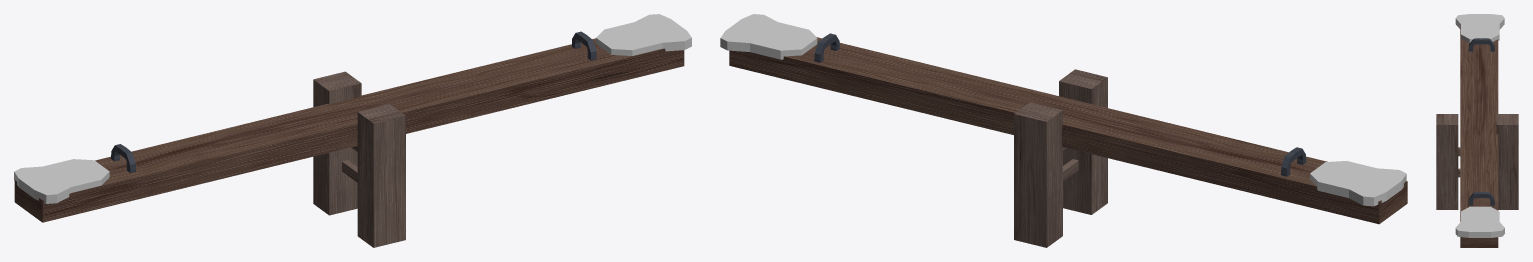
File: Balancin.obj
The picture shows the model from 3 angles, left to right: view 1: azimuth 30°, elevation 25°; view 2: azimuth 150°, elevation 25°; view 3: azimuth 270°, elevation 25°; orthographic projection. The views are drawn at different scales.
Visible parts, largest first — view 1: Cube.029; view 2: Cube.029; view 3: Cube.029.
Boxes of the visible parts, x1,y1,x2,y2 form: Cube.029: [14, 14, 691, 247]; Cube.029: [720, 14, 1407, 247]; Cube.029: [1436, 14, 1518, 247].
Size of the model in its own units: 4.34 by 0.8148 by 0.6956.
